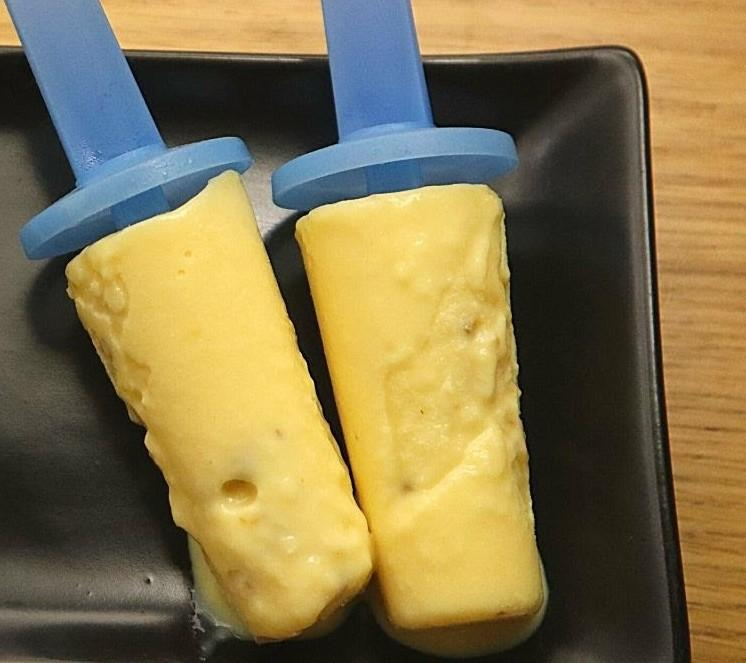Kulfi: (65, 167, 371, 645), (297, 183, 547, 658)
